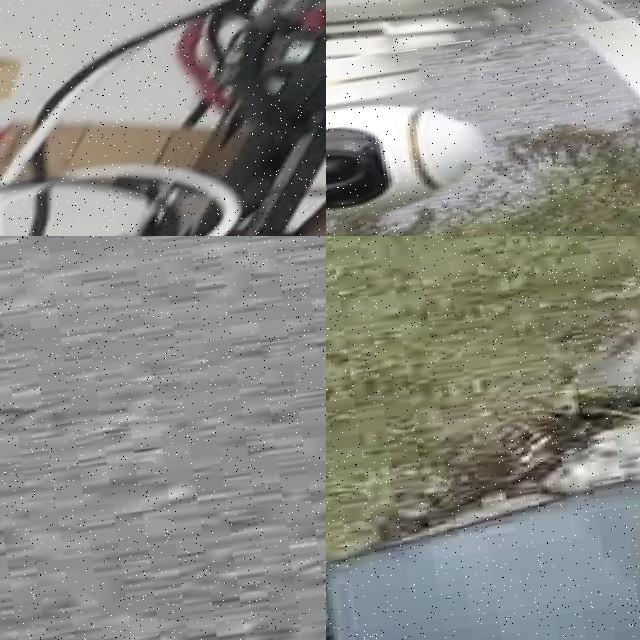drone: (0, 0, 326, 236), (326, 0, 640, 68)
